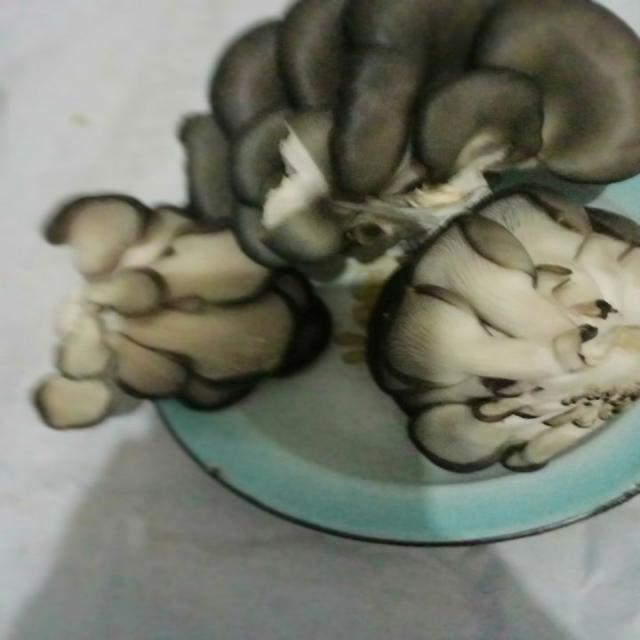Pleurotus ostreatus: (176, 1, 640, 268), (366, 187, 640, 475), (36, 194, 325, 430)
